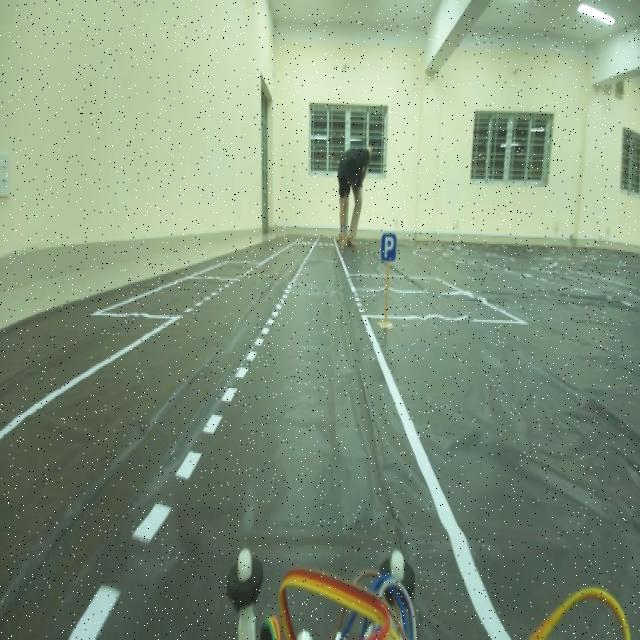parking: (377, 226, 400, 267)
